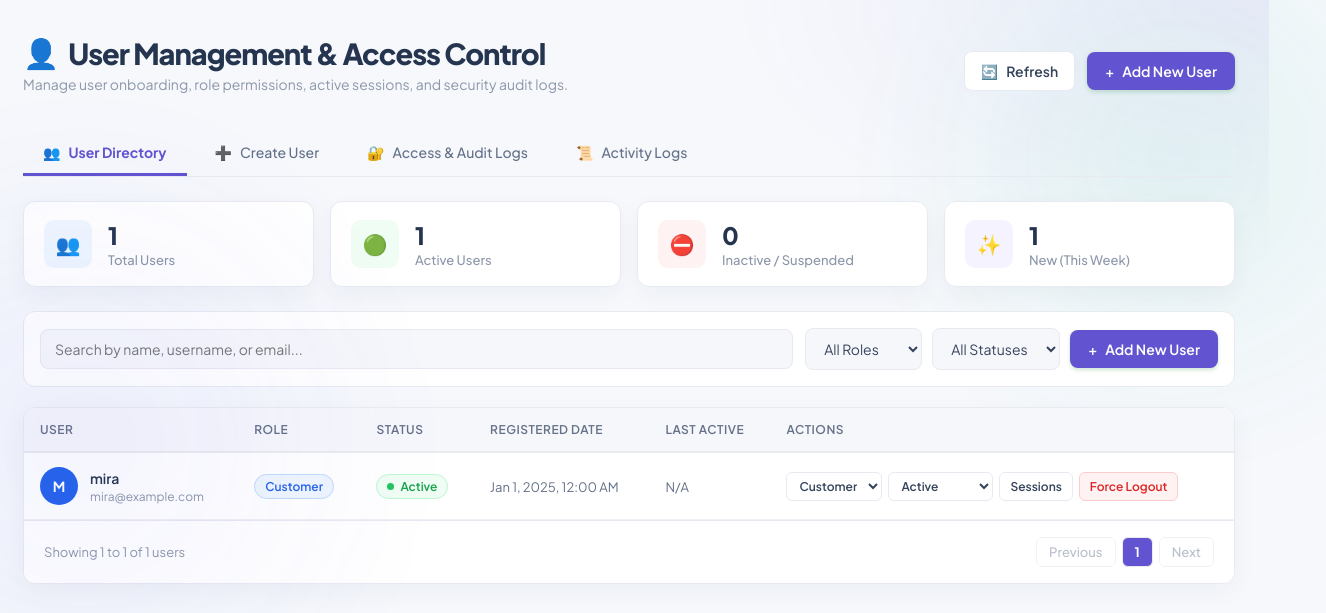
Test: AdminUserManagement › renders server-backed users, access logs, and activity logs
Expected: the text "mira@example.com" is shown, [90,488,204,504]
Click the button "🔐 Access & Audit Logs" at (448, 154), box [347,131,548,176]
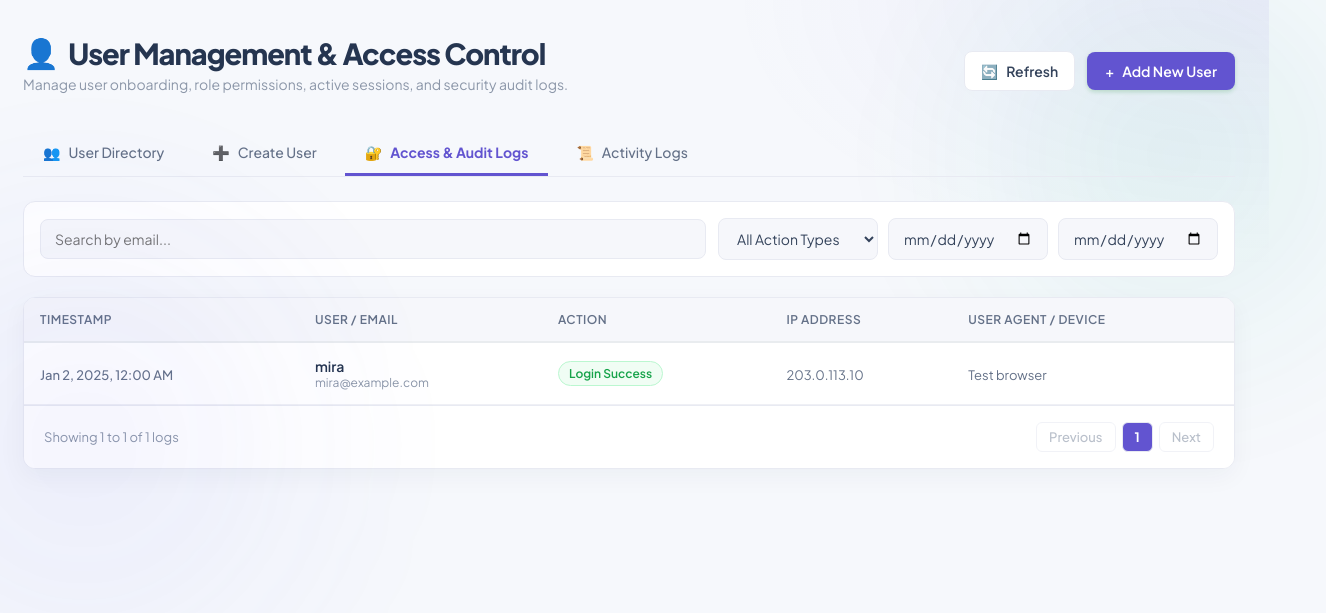
Result: the text "203.0.113.10" is shown at [786,366,864,382]
Result: the text "Test browser" is shown at [968,366,1047,382]
Click the button "📜 Activity Logs" at (632, 154), box [556,131,708,176]
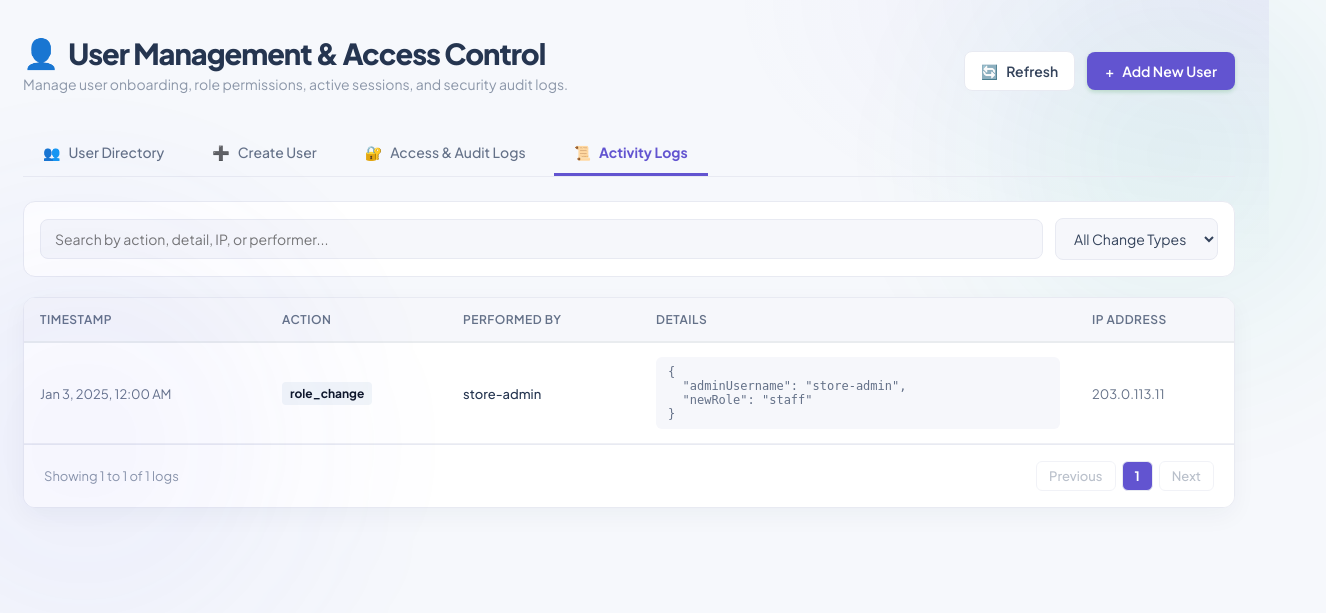
Result: the text "store-admin" is shown at [463,386,541,402]
Result: the text "203.0.113.11" is shown at [1092,386,1164,402]
